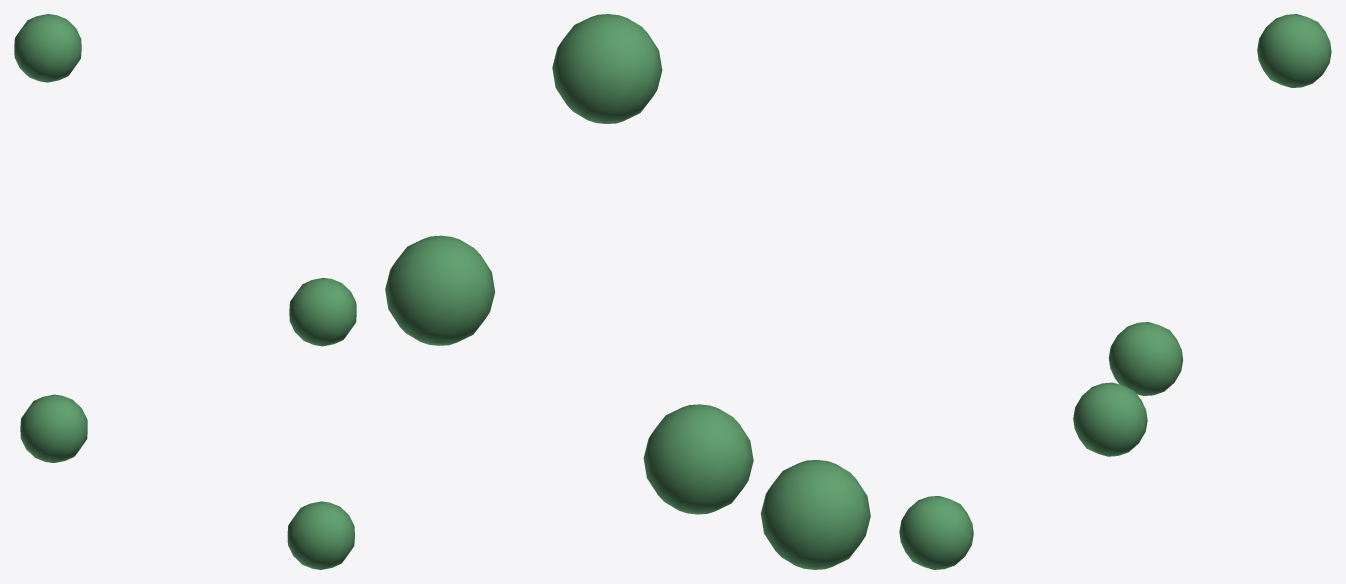
3 renders of one model, left to right at view 1: azimuth 30°, elevation 25°; view 2: azimuth 150°, elevation 25°; view 3: azimuth 270°, elevation 25°, orthographic. The views are drawn at different scales.
Visible parts, largest first — view 1: 右侧臀下淋巴结; view 2: 右侧臀下淋巴结; view 3: 右侧臀下淋巴结.
Boxes of the visible parts, x1,y1,x2,y2 form: 右侧臀下淋巴结: [14, 14, 356, 569]; 右侧臀下淋巴结: [385, 14, 870, 569]; 右侧臀下淋巴结: [899, 14, 1331, 569].
Size of the model in its own units: 0.0199 by 0.0278 by 0.0221.
